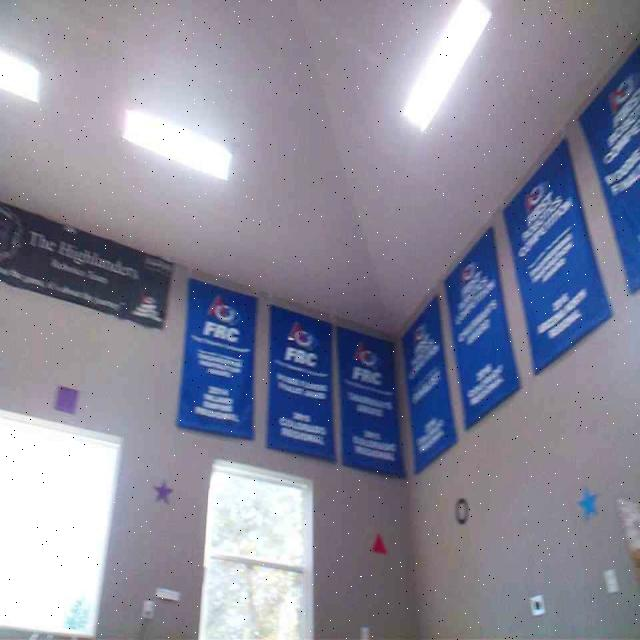ring_black: (455, 496, 469, 523)
square_purple: (53, 386, 78, 415), (152, 478, 172, 503)
star_blue: (577, 485, 599, 519)
triangle_red: (371, 533, 387, 555)
